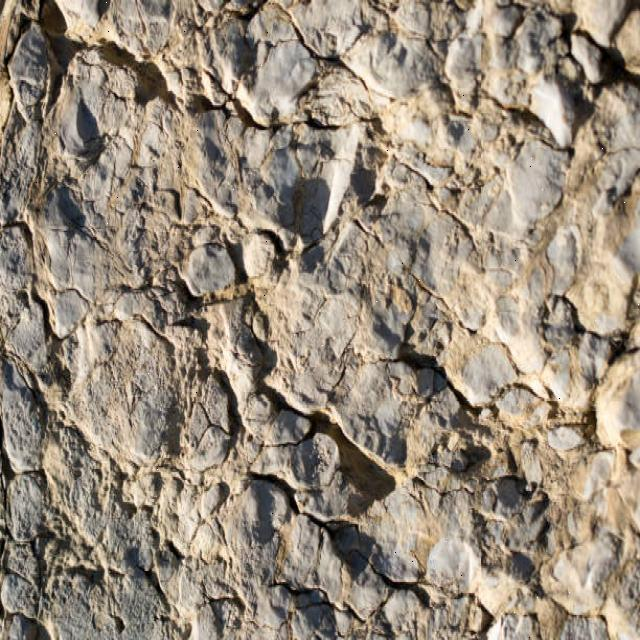Sedimentary: (1, 2, 638, 632)
